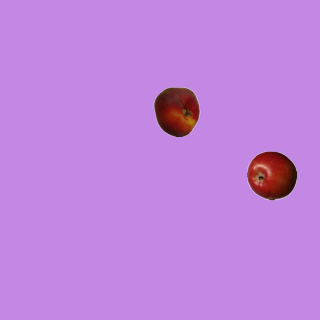Apple Braeburn: (246, 150, 296, 200)
Nectarine Flat: (151, 86, 201, 136)
